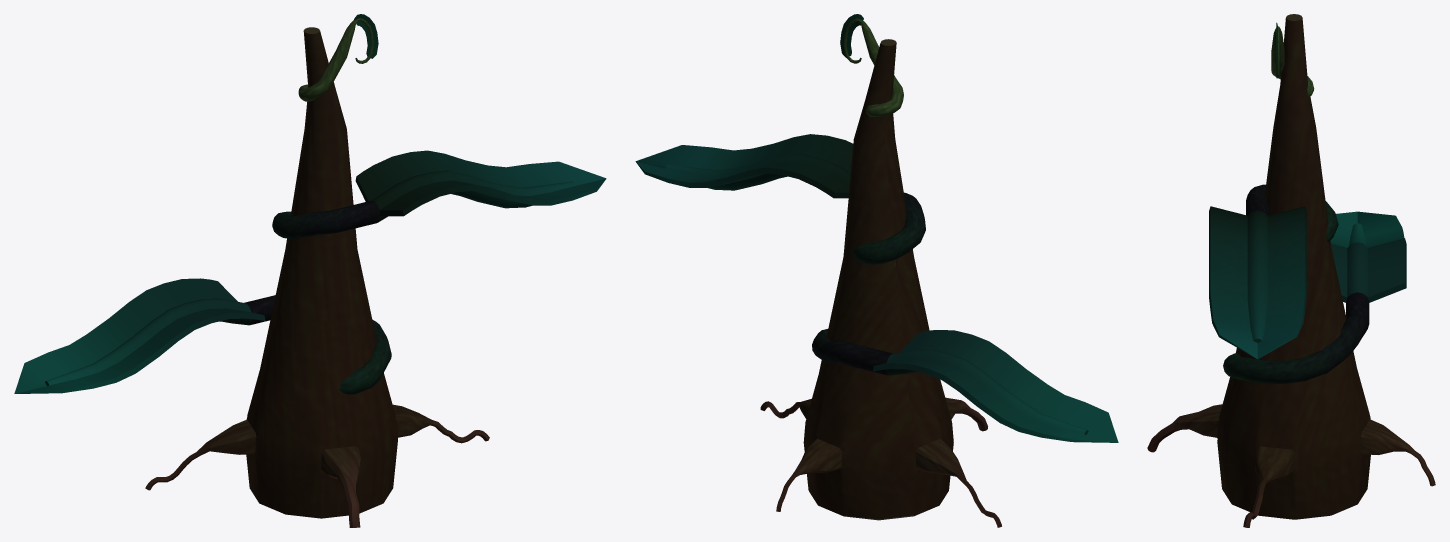
The model's file is SwirlLeafTree.fbx.
The picture shows the model from 3 angles, left to right: view 1: azimuth 30°, elevation 25°; view 2: azimuth 150°, elevation 25°; view 3: azimuth 270°, elevation 25°; orthographic projection. The views are drawn at different scales.
Visible parts, largest first — view 1: SwirlLeafTree; view 2: SwirlLeafTree; view 3: SwirlLeafTree.
Part boxes in pixels (x1,y1,x2,y2): SwirlLeafTree: [14, 14, 606, 527]; SwirlLeafTree: [635, 14, 1118, 527]; SwirlLeafTree: [1147, 14, 1435, 527].
Bounding box in the file's own units: 311 × 259 × 141.
1 material, 1 textured.
